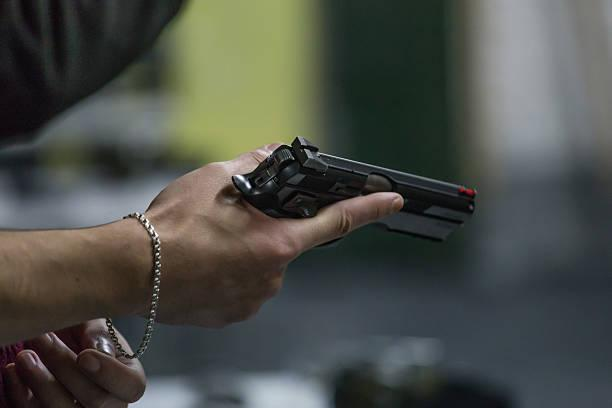weapon: (229, 133, 479, 249)
